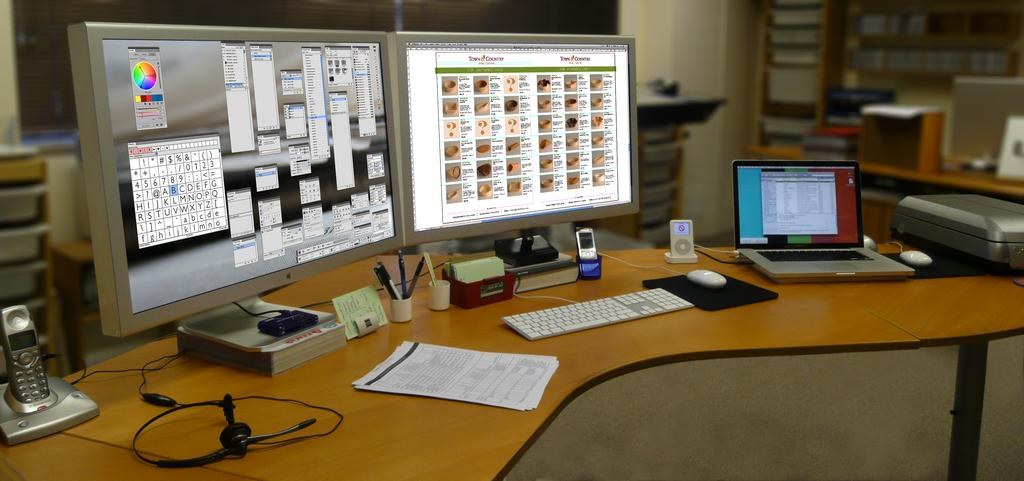Computer-monitor: (65, 35, 424, 367), (380, 38, 635, 294)
Laptop: (733, 162, 913, 282)
